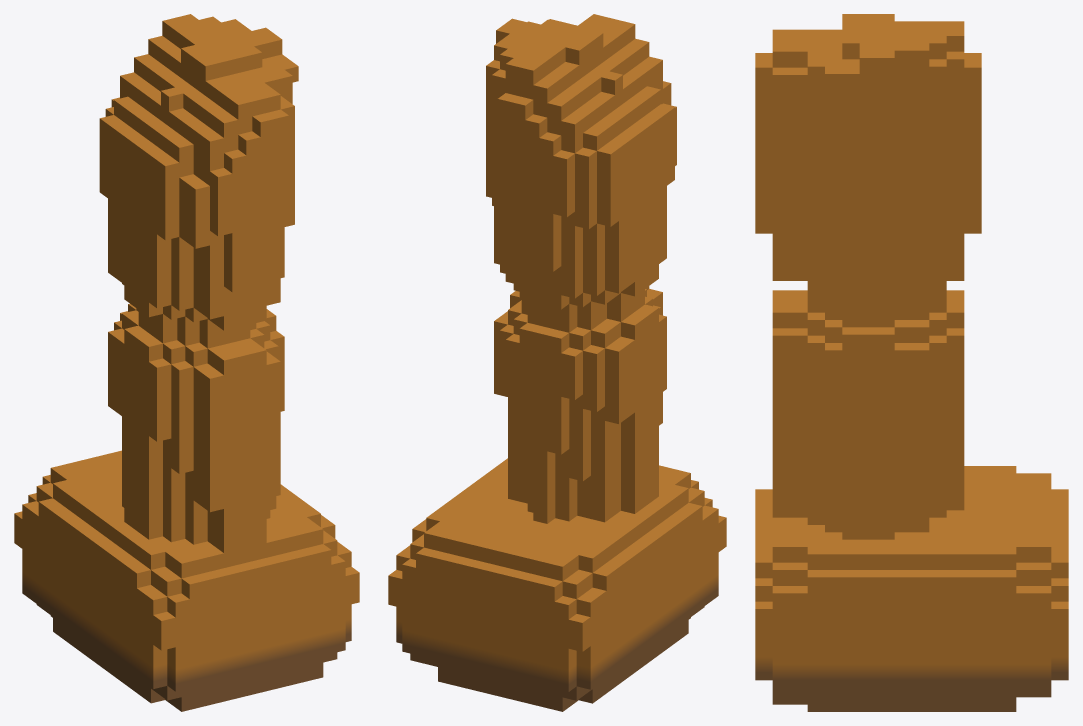
Rendered from Enemy-5-BearLeft.fbx.
3 renders of one model, left to right at view 1: azimuth 30°, elevation 25°; view 2: azimuth 150°, elevation 25°; view 3: azimuth 270°, elevation 25°, orthographic. The views are drawn at different scales.
Parts seen in each view (by area): view 1: BearLeft; view 2: BearLeft; view 3: BearLeft.
Boxes of the visible parts, left/top/right/bottom form: BearLeft: left=14, top=14, right=359, bottom=711; BearLeft: left=388, top=14, right=726, bottom=711; BearLeft: left=755, top=14, right=1068, bottom=711.
Size of the model in its own units: 14 by 41 by 18.
Materials: 1 (1 with a texture image).
